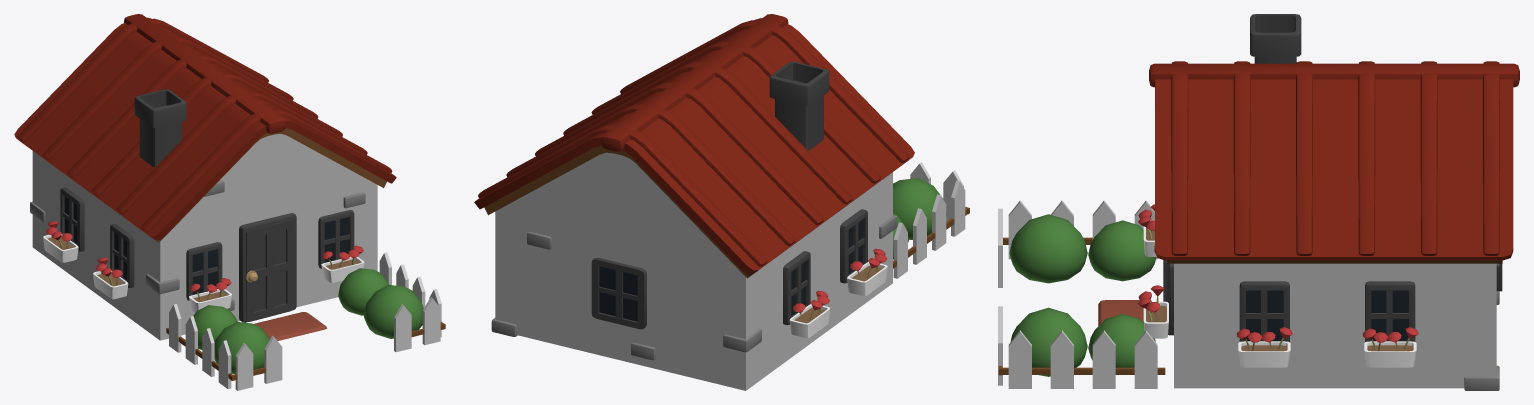
File: SM_house_cute_03.fbx
The picture shows the model from 3 angles, left to right: view 1: azimuth 30°, elevation 25°; view 2: azimuth 150°, elevation 25°; view 3: azimuth 270°, elevation 25°; orthographic projection. The views are drawn at different scales.
Visible parts, largest first — view 1: Box109; view 2: Box109; view 3: Box109.
Part boxes in pixels (x1=…): Box109: x1=14, y1=14, x2=445, y2=390; Box109: x1=474, y1=14, x2=969, y2=390; Box109: x1=998, y1=14, x2=1519, y2=390.
Bounding box in the file's own units: 231 × 169 × 306.
